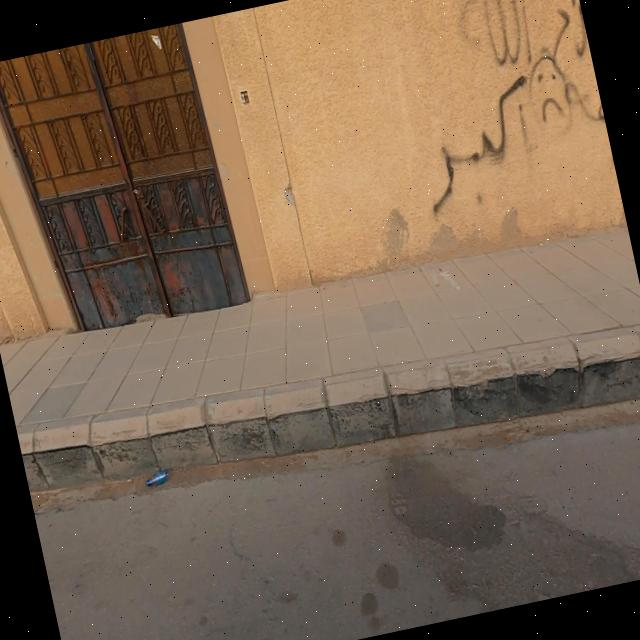Graffiti: (407, 49, 618, 217), (449, 1, 590, 74)
